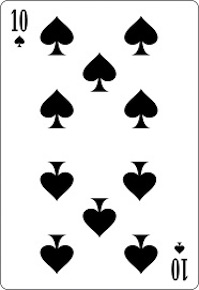TenOfSpades: (1, 3, 199, 287)
